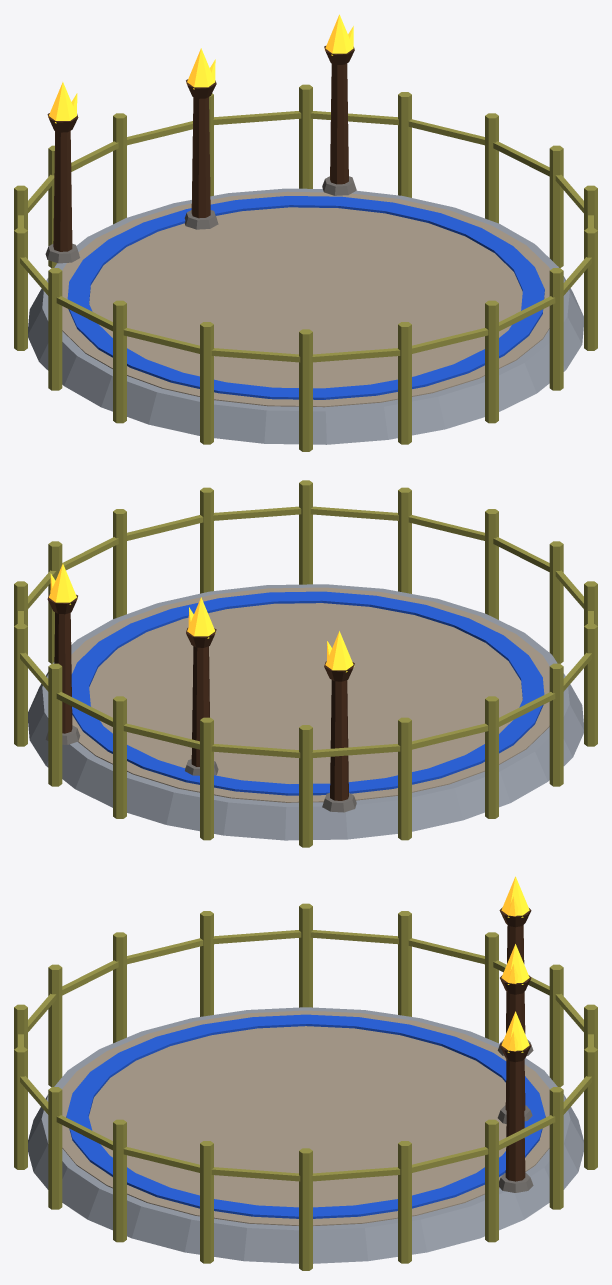
Rendered from panggung_uji_v001.glb.
3 renders of one model, top to bottom at view 1: azimuth 30°, elevation 25°; view 2: azimuth 150°, elevation 25°; view 3: azimuth 270°, elevation 25°, orthographic.
Parts seen in each view (by area): view 1: Arena_Uji, Pagar_Uji, Cincin_Aksen, Api_2_Nyala, Api_3_Nyala, Api_1_Nyala; view 2: Arena_Uji, Pagar_Uji, Cincin_Aksen, Api_2_Nyala, Api_3_Nyala, Api_1_Nyala; view 3: Arena_Uji, Pagar_Uji, Cincin_Aksen, Api_1_Nyala, Api_3_Nyala, Api_2_Nyala.
Boxes of the visible parts, x1,y1,x2,y2 form: Arena_Uji: [28, 46, 583, 444]; Pagar_Uji: [14, 84, 597, 451]; Cincin_Aksen: [67, 196, 544, 399]; Api_2_Nyala: [186, 48, 215, 89]; Api_3_Nyala: [324, 14, 353, 55]; Api_1_Nyala: [48, 82, 77, 123]; Arena_Uji: [28, 584, 583, 840]; Pagar_Uji: [14, 480, 597, 847]; Cincin_Aksen: [71, 591, 544, 795]; Api_2_Nyala: [187, 597, 215, 638]; Api_3_Nyala: [49, 563, 77, 604]; Api_1_Nyala: [325, 631, 354, 672]; Arena_Uji: [28, 907, 583, 1263]; Pagar_Uji: [14, 903, 597, 1270]; Cincin_Aksen: [66, 1014, 545, 1218]; Api_1_Nyala: [501, 876, 529, 917]; Api_3_Nyala: [501, 1011, 529, 1052]; Api_2_Nyala: [501, 944, 529, 984].
Bounding box in the file's own units: 5.92 × 2.24 × 5.85.
